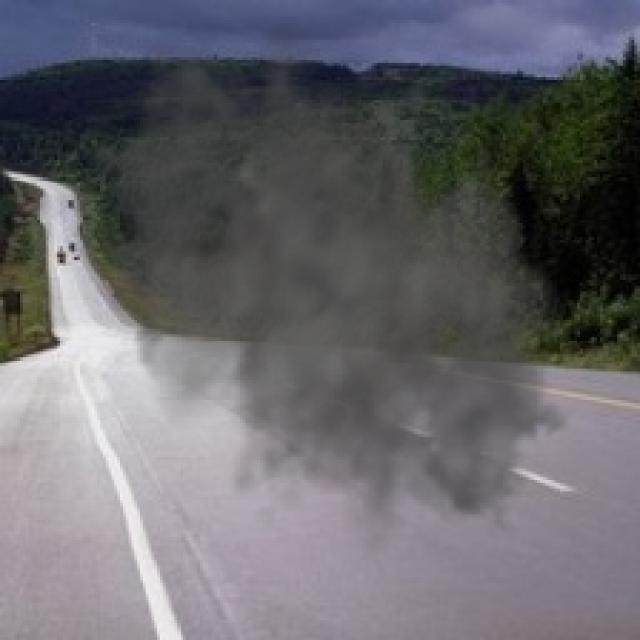smoke: (57, 17, 603, 560)
